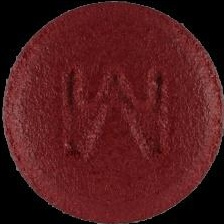51079-541: (0, 0, 224, 224)
